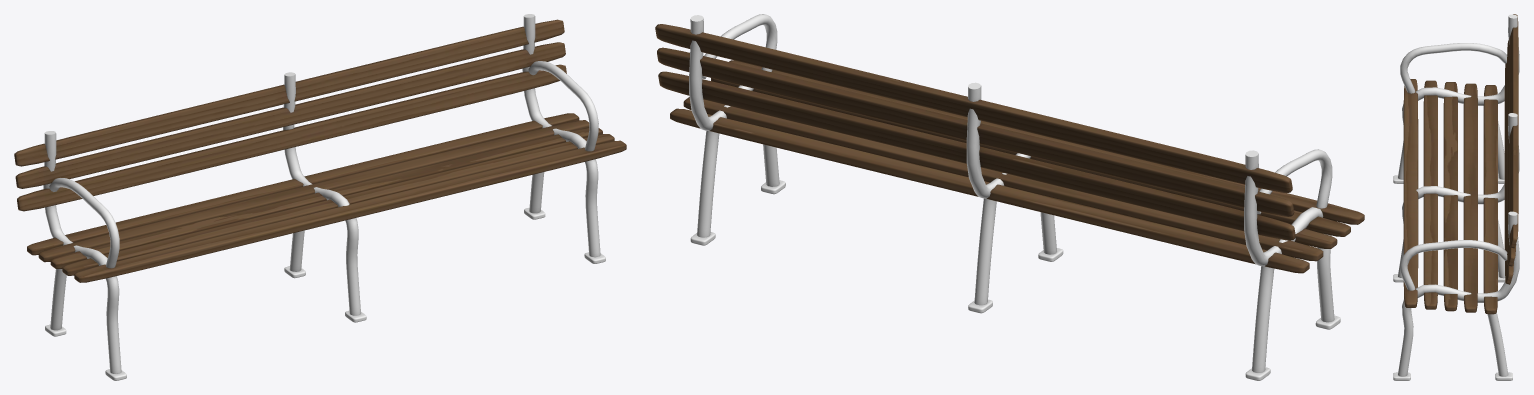
Rendered from park-long.glb.
3 views of the same model, side by side, from view 1: azimuth 30°, elevation 25°; view 2: azimuth 150°, elevation 25°; view 3: azimuth 270°, elevation 25° (orthographic). The views are drawn at different scales.
Parts seen in each view (by area): view 1: wood_h, paint_primary; view 2: wood_h, paint_primary; view 3: wood_h, paint_primary.
Boxes of the visible parts, <box> form: wood_h: <box>14,19,626,282</box>; paint_primary: <box>43,14,605,380</box>; wood_h: <box>655,24,1364,273</box>; paint_primary: <box>689,14,1340,380</box>; wood_h: <box>1403,14,1518,314</box>; paint_primary: <box>1393,14,1519,380</box>.
Size of the model in its own units: 2.4 by 0.8252 by 0.5701.
2 materials, 2 textured.
